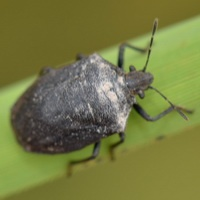insect: (12, 54, 151, 151), (149, 22, 199, 104), (122, 111, 187, 163)
